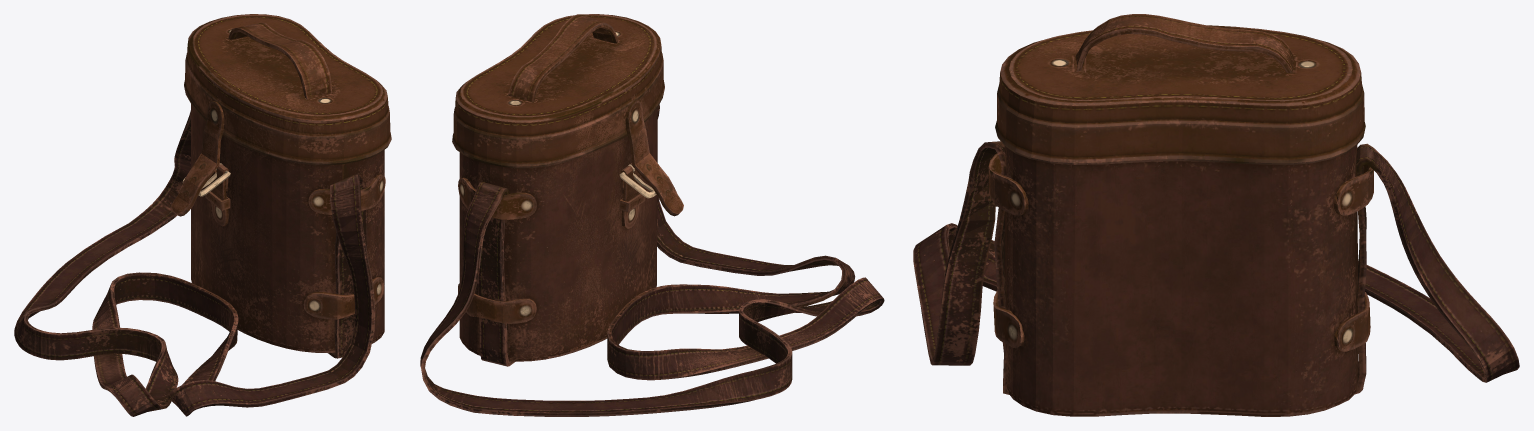
The model's file is ZN3SX4QMTW4QROPJVYSQO58FU.obj.
3 renders of one model, left to right at view 1: azimuth 30°, elevation 25°; view 2: azimuth 150°, elevation 25°; view 3: azimuth 270°, elevation 25°, orthographic. The views are drawn at different scales.
Visible parts, largest first — view 1: Object_TexMap; view 2: Object_TexMap; view 3: Object_TexMap.
Boxes of the visible parts, left/top/right/bottom form: Object_TexMap: left=14, top=14, right=391, bottom=416; Object_TexMap: left=420, top=14, right=884, bottom=416; Object_TexMap: left=913, top=14, right=1519, bottom=416.
Size of the model in its own units: 1.91 by 1.66 by 2.5.
Materials: 1 (1 with a texture image).
